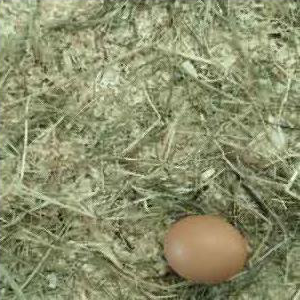egg: (164, 216, 248, 284)
